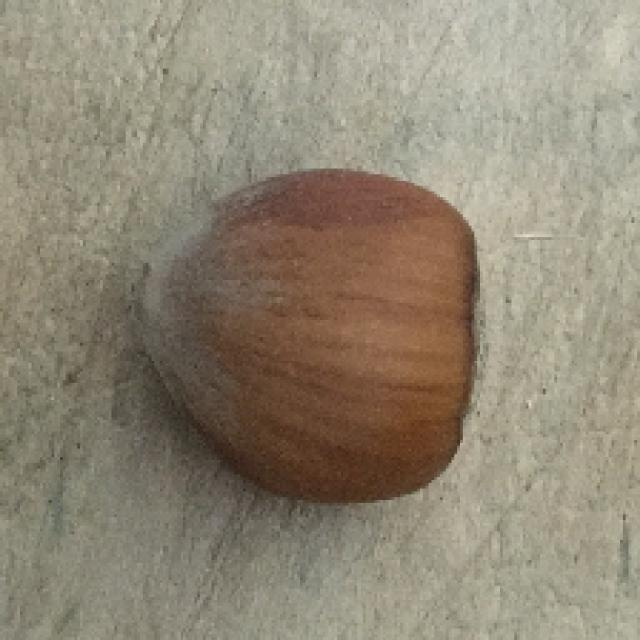qualityHazelnut: (128, 168, 491, 510)
